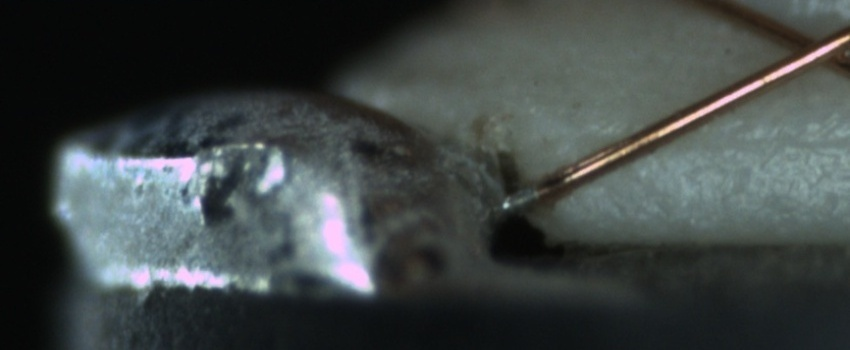CL: (765, 14, 849, 79)
DL: (673, 108, 849, 172)
TS: (500, 183, 539, 215)
